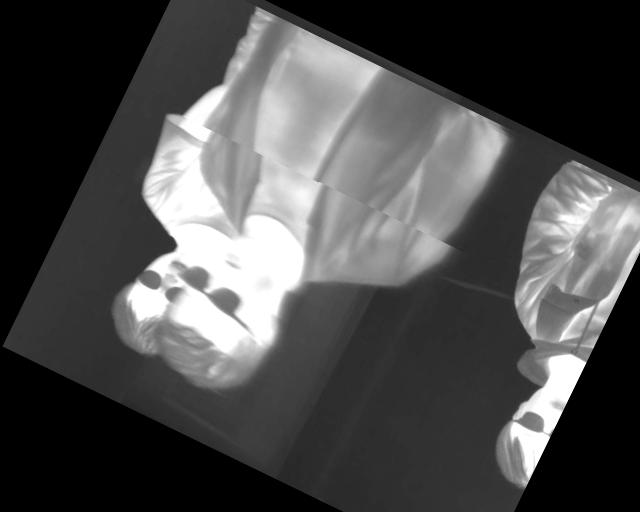face: (144, 219, 311, 410), (95, 233, 202, 363), (481, 370, 571, 491)
